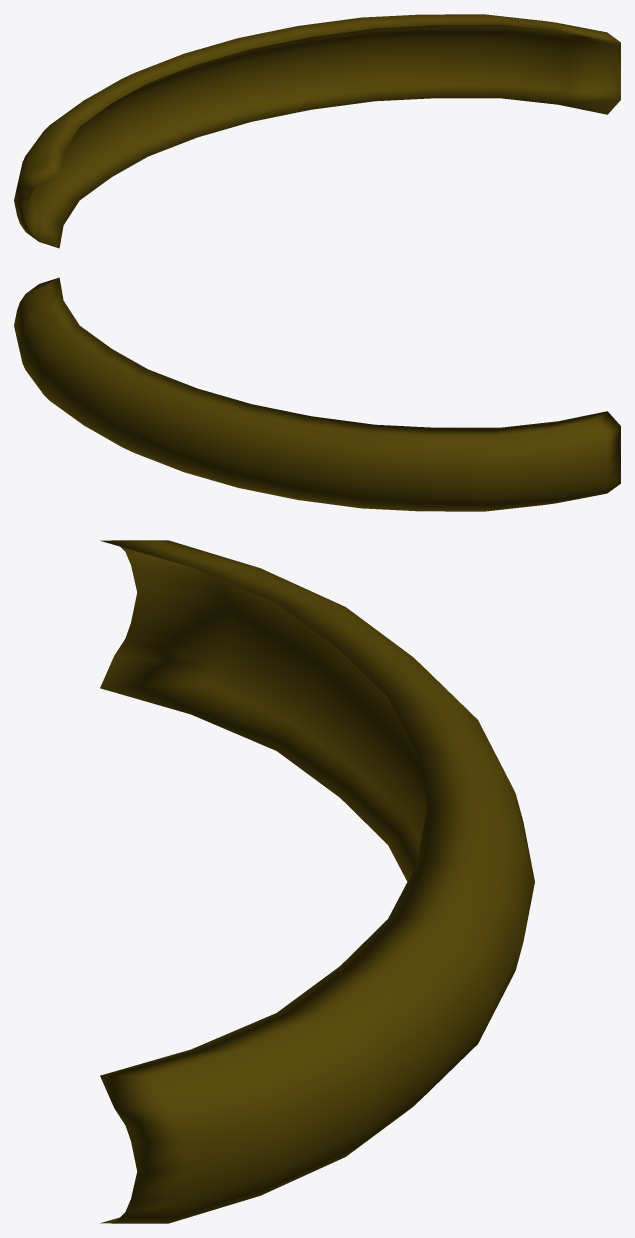
The model's file is halfcircle.fbx.
3 renders of one model, top to bottom at view 1: azimuth 30°, elevation 25°; view 2: azimuth 150°, elevation 25°; view 3: azimuth 270°, elevation 25°, orthographic. The views are drawn at different scales.
Parts seen in each view (by area): view 1: half_circle; view 2: half_circle; view 3: half_circle.
Part boxes in pixels (box(x1,y1,x2,y2)): half_circle: box(14, 14, 620, 248); half_circle: box(14, 277, 620, 511); half_circle: box(100, 540, 534, 1223).
Size of the model in its own units: 2.96 by 0.3512 by 0.939.
